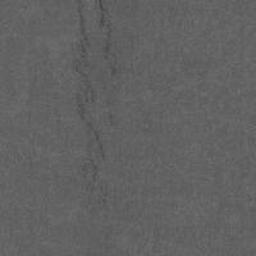Inclusion: (73, 0, 109, 187), (96, 0, 122, 77), (108, 108, 120, 128), (99, 184, 110, 205)
